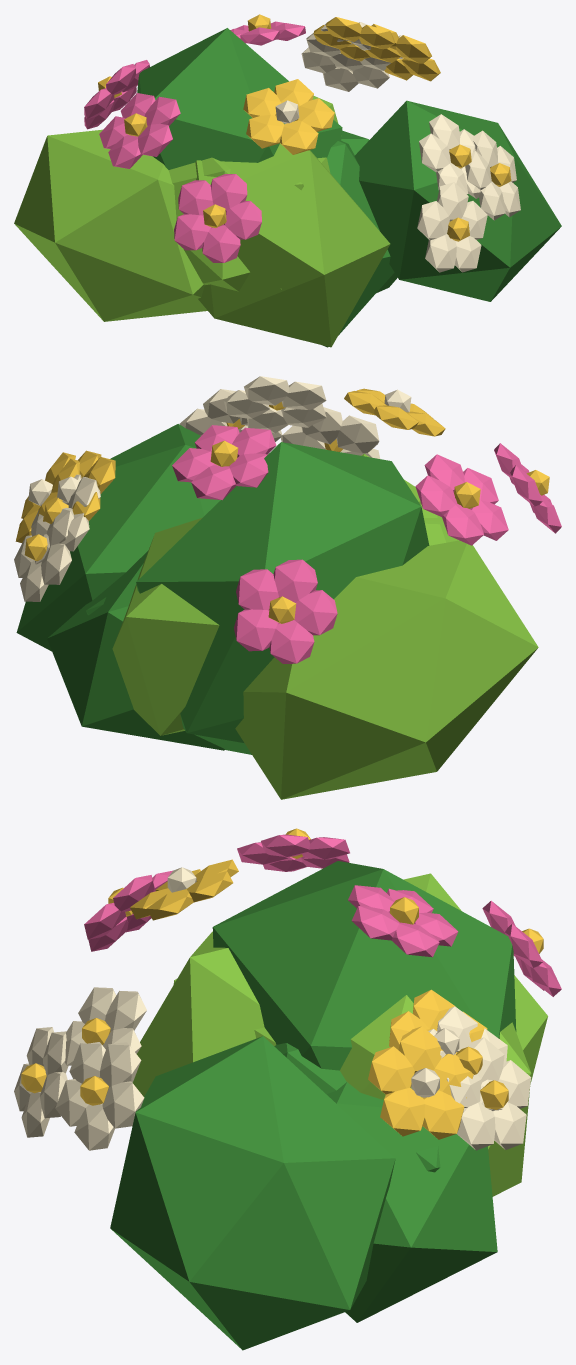
Rendered from Arbusto_Flores.fbx.
3 views of the same model, one above another, from view 1: azimuth 30°, elevation 25°; view 2: azimuth 150°, elevation 25°; view 3: azimuth 270°, elevation 25° (orthographic). The views are drawn at different scales.
Visible parts, largest first — view 1: Kit_Arbusto_Flores; view 2: Kit_Arbusto_Flores; view 3: Kit_Arbusto_Flores.
Boxes of the visible parts, box(x1,y1,x2,y2) form: Kit_Arbusto_Flores: box(14, 14, 561, 347); Kit_Arbusto_Flores: box(14, 376, 561, 799); Kit_Arbusto_Flores: box(14, 828, 561, 1350).
Bounding box in the file's own units: 1.36 × 0.826 × 1.13.
